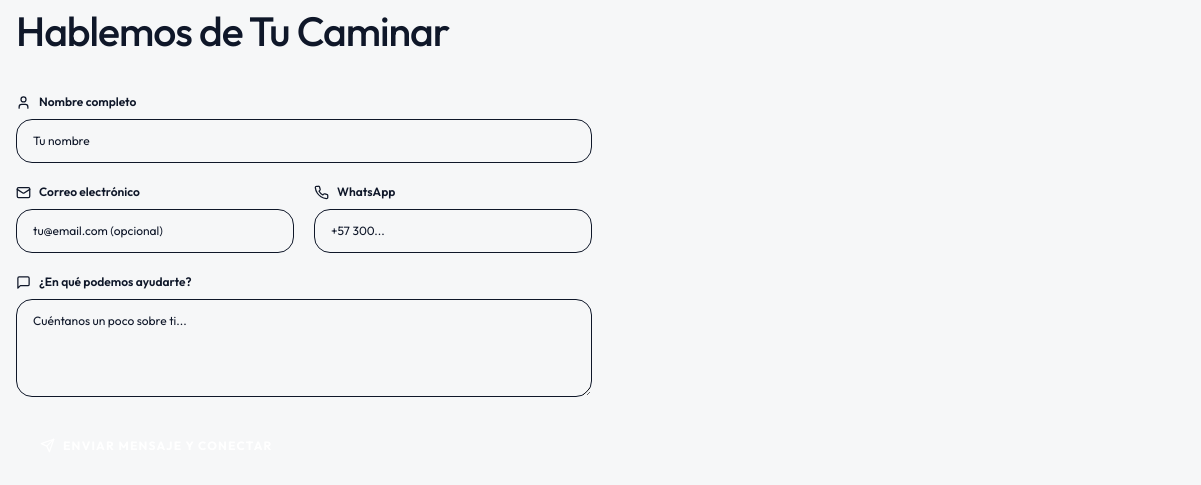
Test: public CMS forms › submits the contact form to the internal contact endpoint
The width and height of the screenshot is (1201, 485).
Type "Ana Gómez" into the field labelled "Nombre completo".
click(304, 141); type("Ana Gómez")  # box [16,119,592,163]
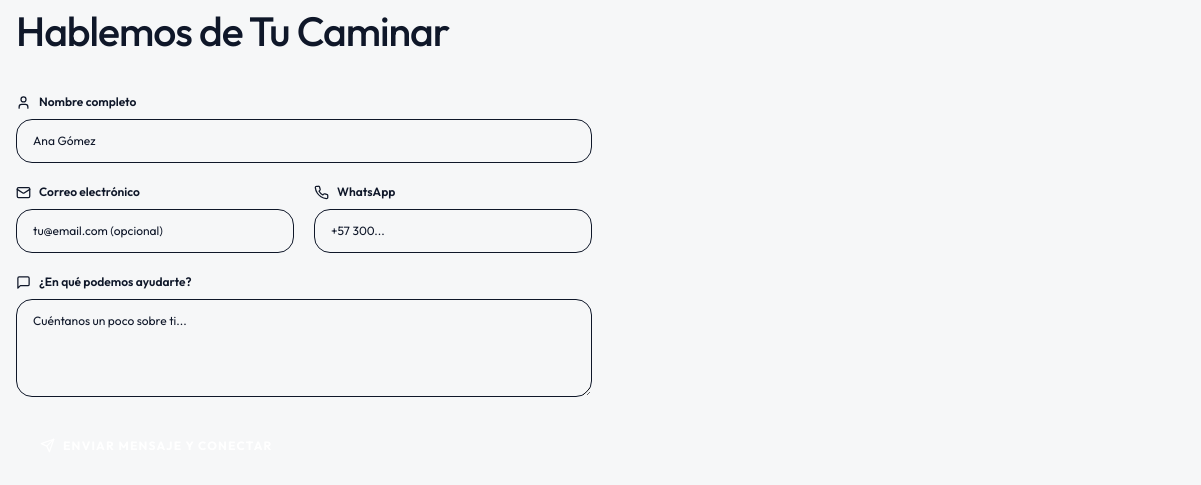
Type "ana@example.com" into the field labelled "Correo electrónico".
click(155, 231); type("ana@example.com")  # box [16,209,294,253]
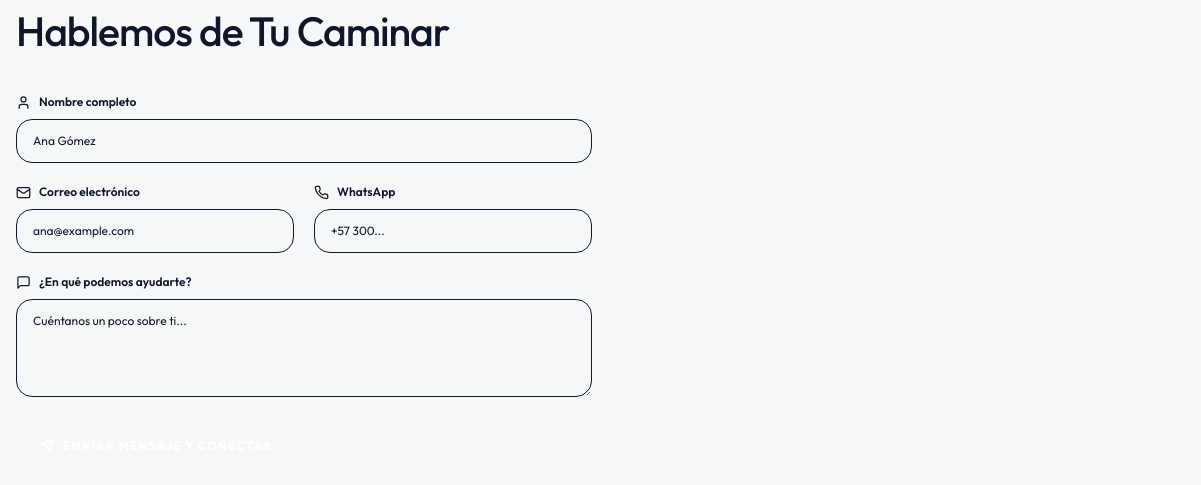
Type "Quiero conocer la iglesia" into the text box labelled "¿En qué podemos ayudarte?".
click(304, 348); type("Quiero conocer la iglesia")  # box [16,299,592,397]
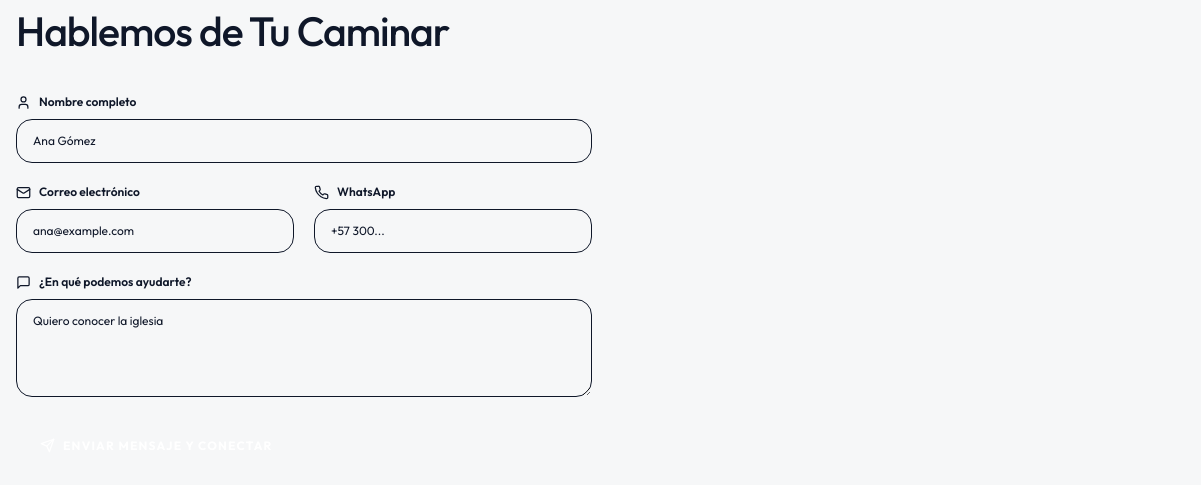
Submit the form named "Enviar mensaje y conectar", box [16,93,592,469]
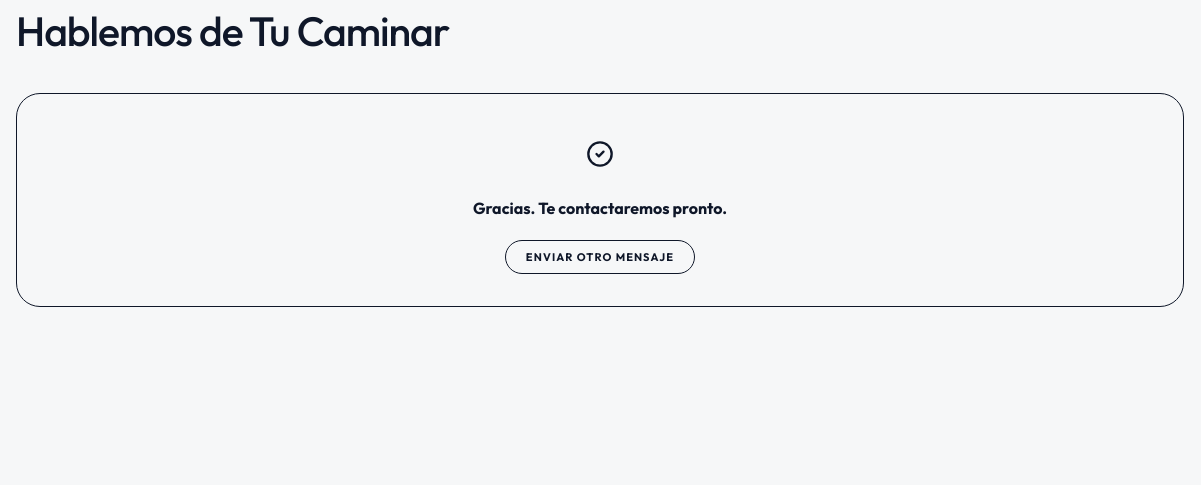
Now the message reads "Gracias. Te contactaremos pronto.", box [473,198,727,218]
